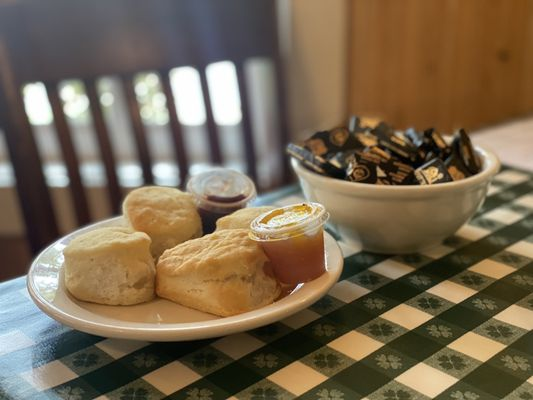sushi: (286, 140, 502, 255)
